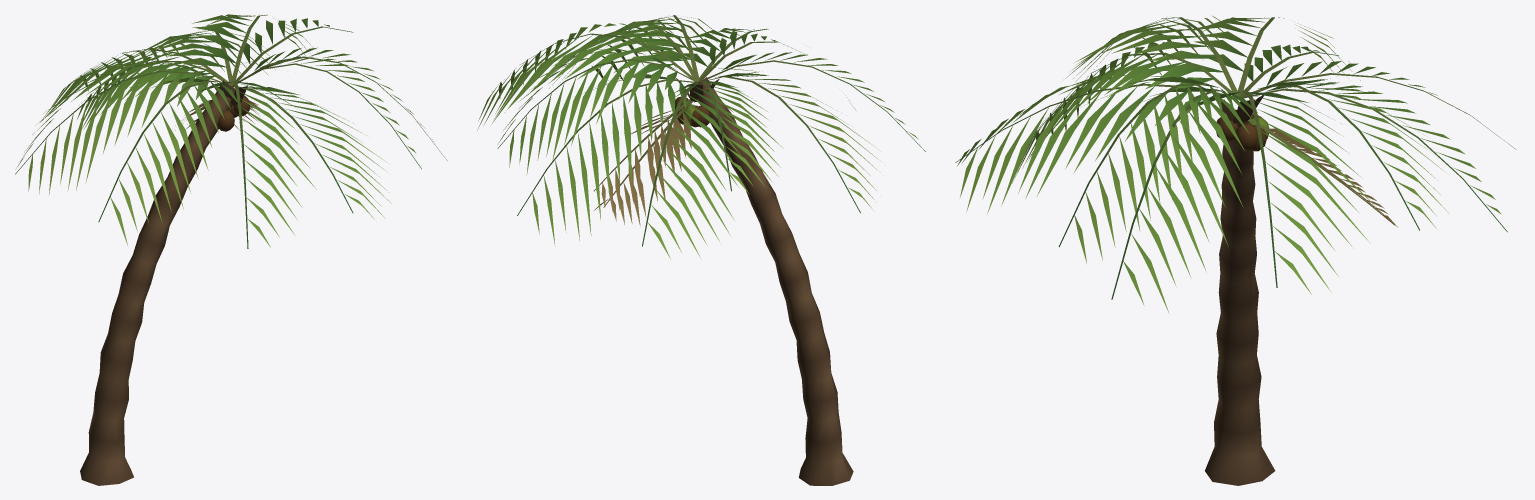
Rendered from palma_1.glb.
The picture shows the model from 3 angles, left to right: view 1: azimuth 30°, elevation 25°; view 2: azimuth 150°, elevation 25°; view 3: azimuth 270°, elevation 25°; orthographic projection. The views are drawn at different scales.
Parts seen in each view (by area): view 1: zaklad, plody; view 2: zaklad, plody; view 3: zaklad, plody.
Part boxes in pixels (box(x1,y1,x2,y2)): zaklad: box(15, 14, 447, 485); plody: box(218, 95, 250, 131); zaklad: box(477, 15, 925, 485); plody: box(675, 96, 710, 127); zaklad: box(955, 15, 1516, 485); plody: box(1216, 113, 1269, 151).
Bounding box in the file's own units: 8.61 × 8.3 × 8.67.
